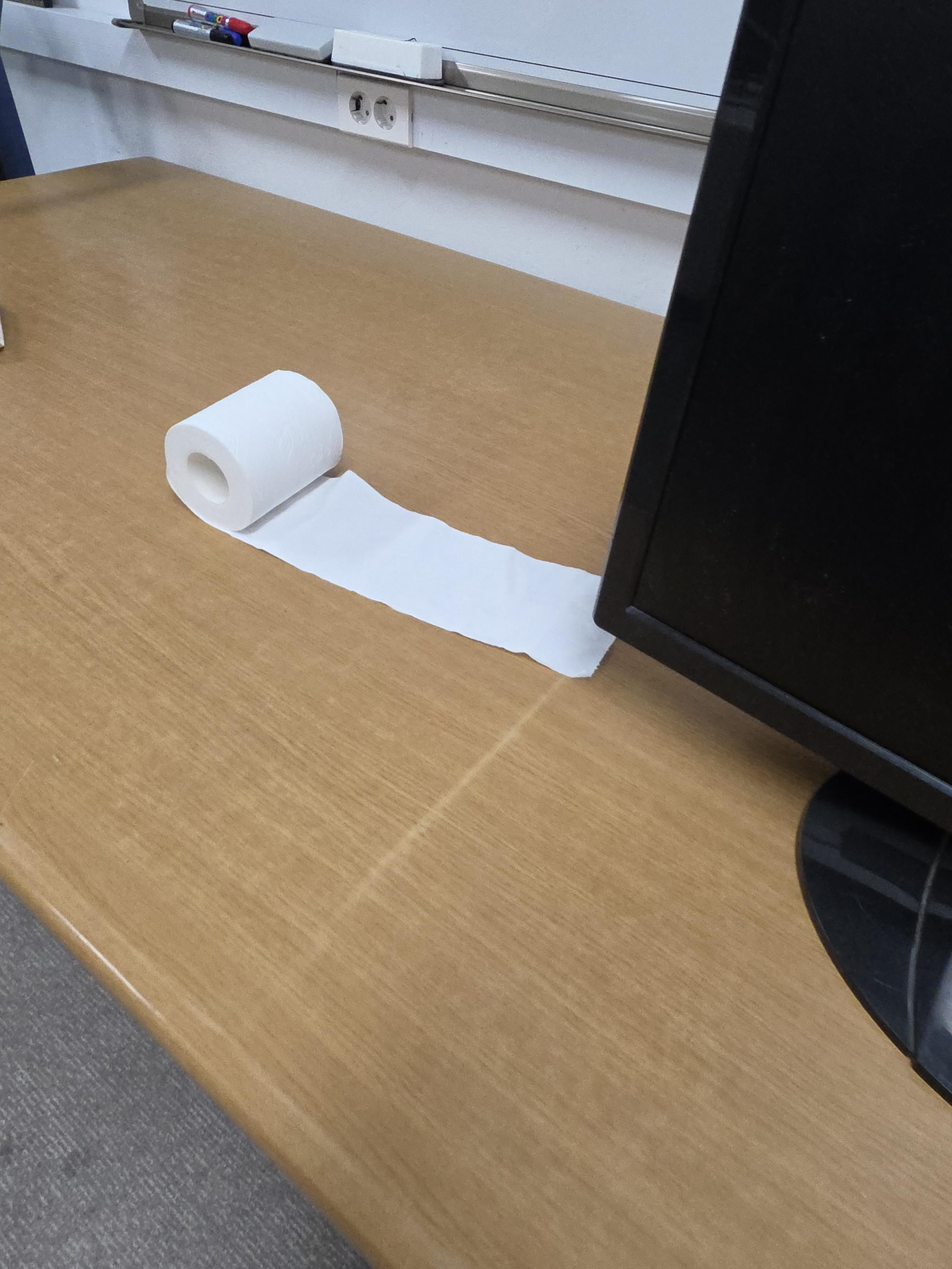tissue: (164, 369, 615, 679)
